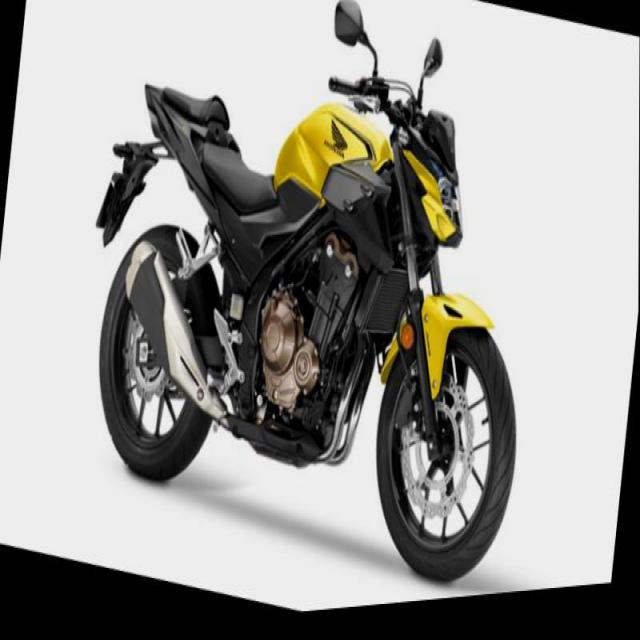CB500F: (66, 0, 553, 634)
